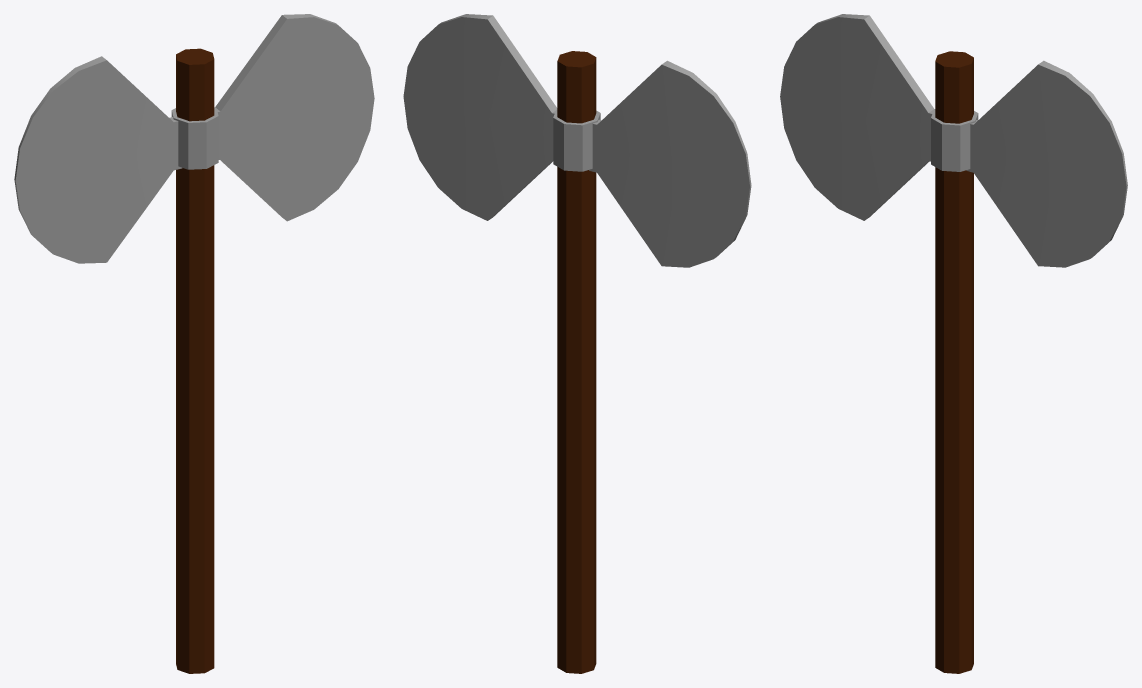
Rendered from W_Axe.fbx.
3 renders of one model, left to right at view 1: azimuth 30°, elevation 25°; view 2: azimuth 150°, elevation 25°; view 3: azimuth 330°, elevation 25°, orthographic.
Visible parts, largest first — view 1: Cube; view 2: Cube; view 3: Cube.
Boxes of the visible parts, <box> form: Cube: <box>14,14,374,673</box>; Cube: <box>403,14,751,673</box>; Cube: <box>780,14,1127,673</box>.
Bounding box in the file's own units: 76.69 × 130 × 9.18.
